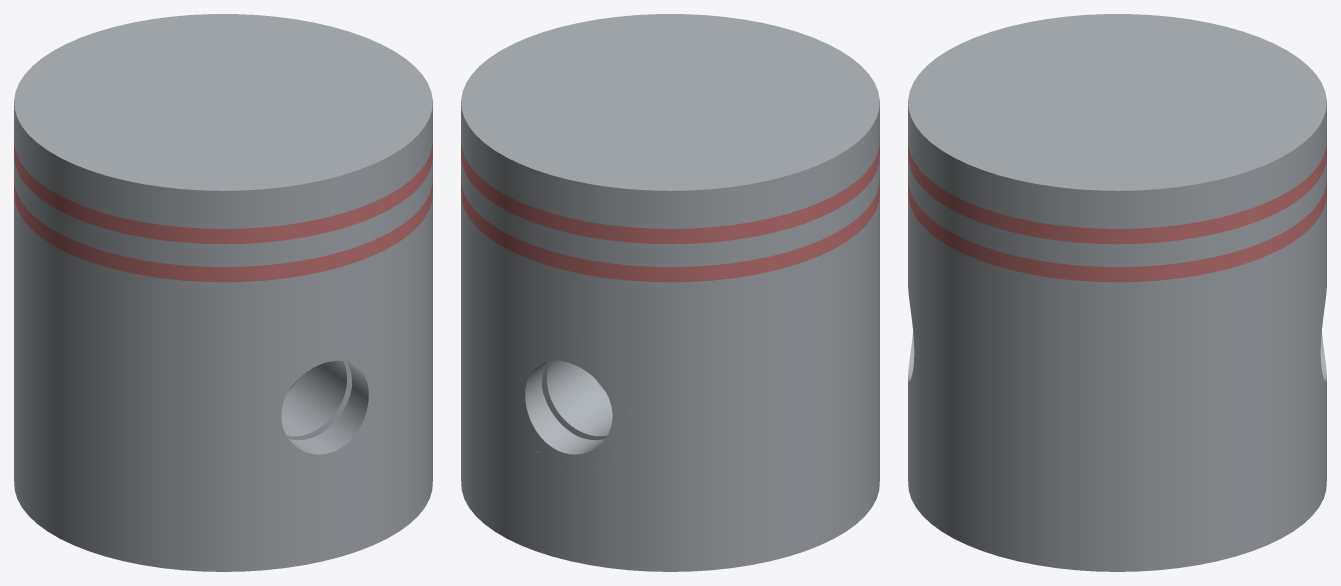
The model's file is step_19.glb.
3 renders of one model, left to right at view 1: azimuth 30°, elevation 25°; view 2: azimuth 150°, elevation 25°; view 3: azimuth 270°, elevation 25°, orthographic.
Visible parts, largest first — view 1: part__piston, removed__piston; view 2: part__piston, removed__piston; view 3: part__piston, removed__piston.
Part boxes in pixels (x1,y1,x2,y2): part__piston: (14, 14, 432, 571); removed__piston: (14, 139, 432, 282); part__piston: (461, 14, 879, 571); removed__piston: (461, 139, 879, 282); part__piston: (908, 14, 1326, 571); removed__piston: (908, 139, 1326, 282).
Bounding box in the file's own units: 49.77 × 50 × 49.8.
